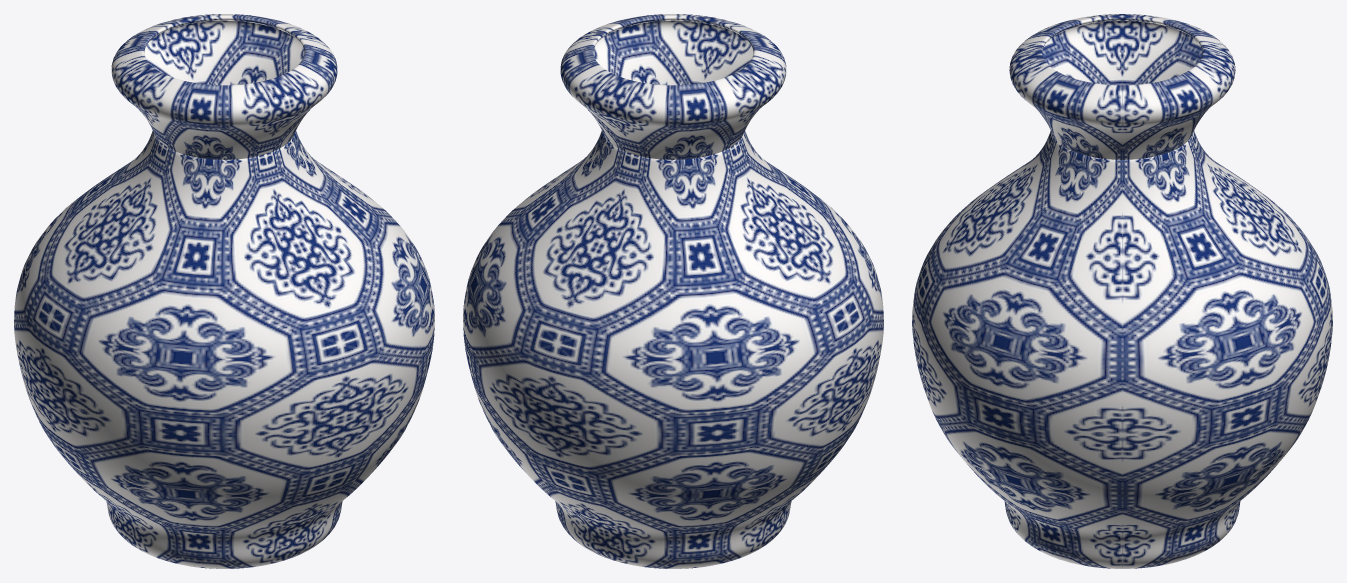
Rendered from vaso3 2.fbx.
The picture shows the model from 3 angles, left to right: view 1: azimuth 30°, elevation 25°; view 2: azimuth 150°, elevation 25°; view 3: azimuth 270°, elevation 25°; orthographic projection.
Parts seen in each view (by area): view 1: Plane.003; view 2: Plane.003; view 3: Plane.003.
Part boxes in pixels (left/top/right/bottom): Plane.003: left=14, top=14, right=434, bottom=568; Plane.003: left=463, top=14, right=883, bottom=568; Plane.003: left=912, top=14, right=1332, bottom=568.
Size of the model in its own units: 64.29 by 83 by 64.29.
Materials: 1 (1 with a texture image).
